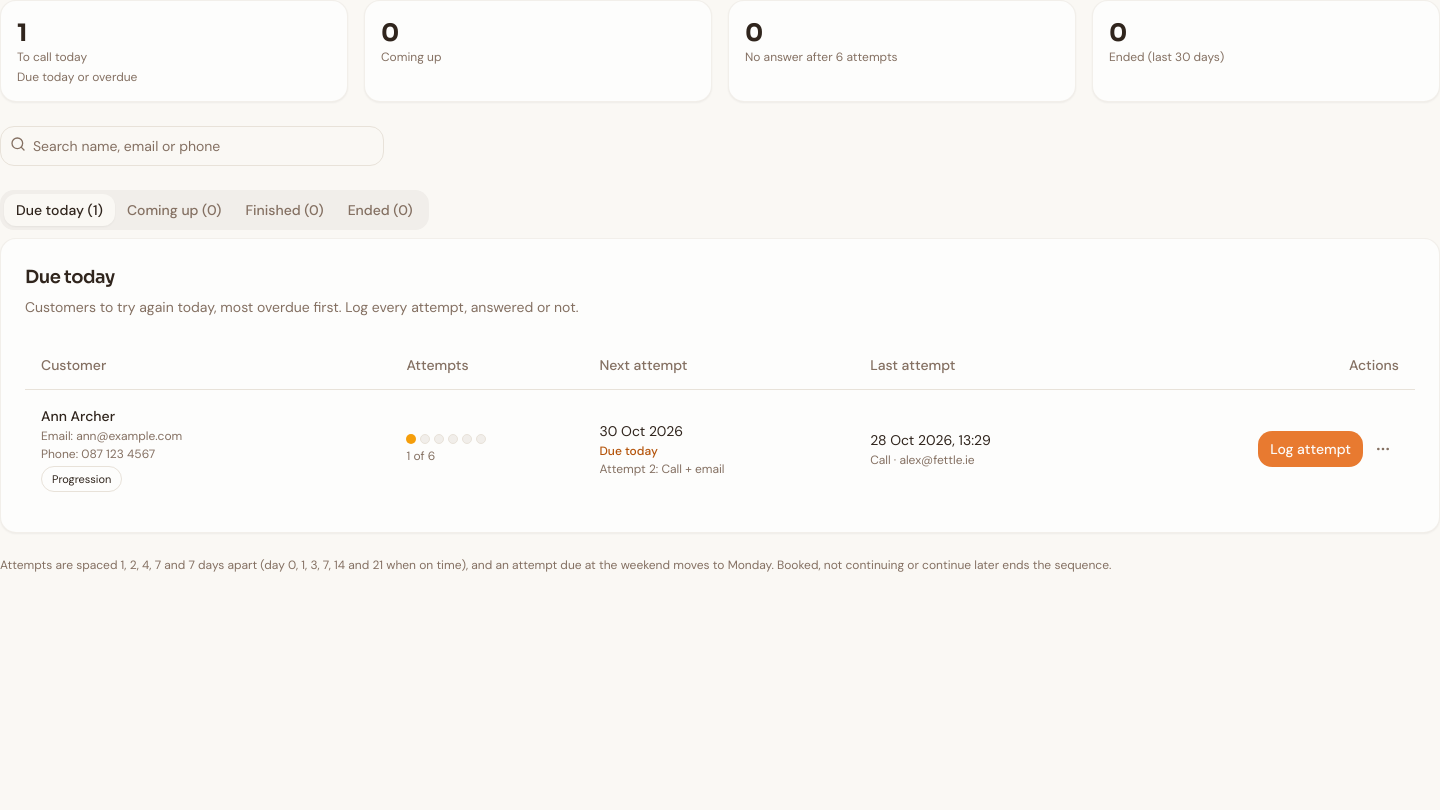
it: No answer page › logs a No answer with the method, a note and the draft email for attempt 2
Click the button "Log attempt" at (1311, 448), box [1258, 430, 1363, 466]
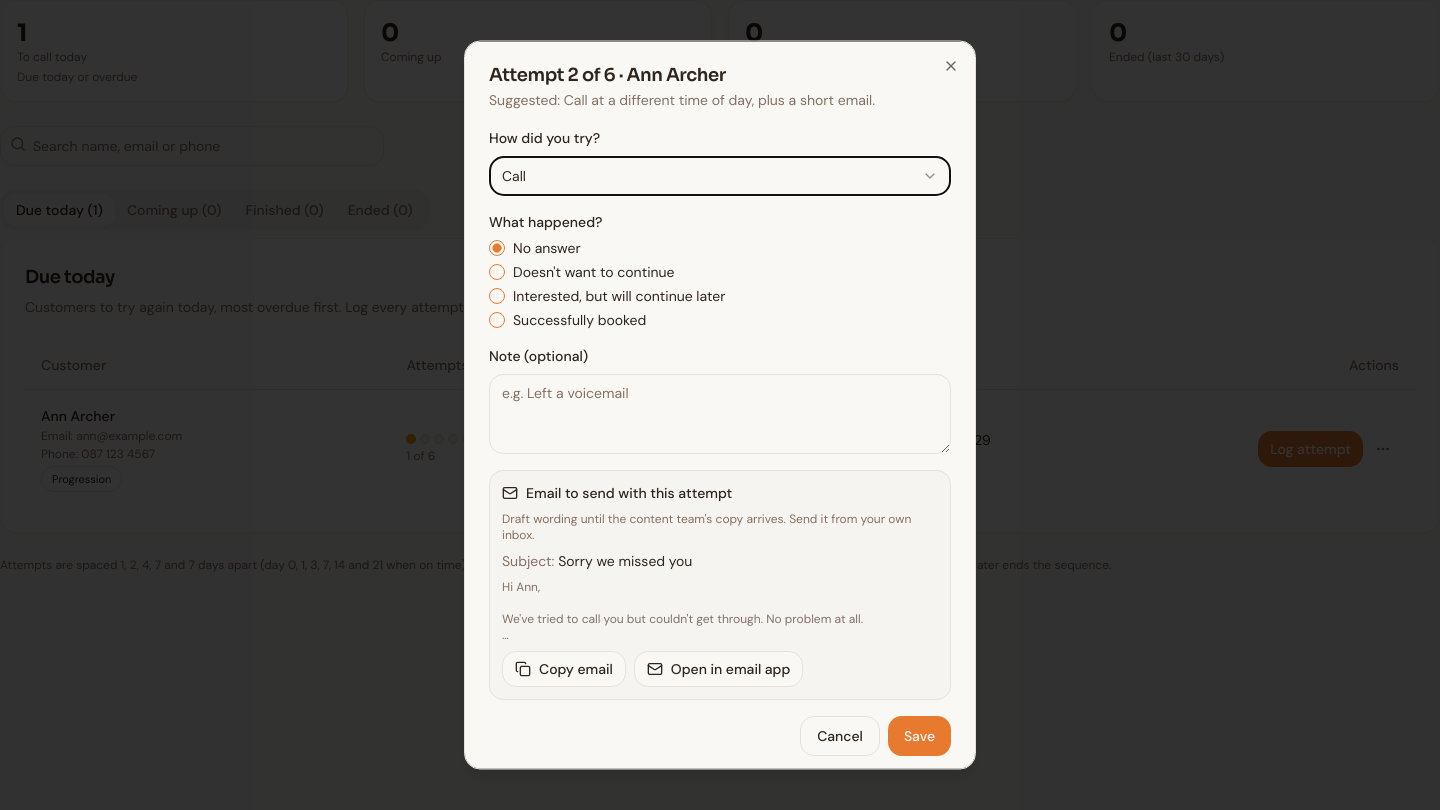
Expected: the heading "Attempt 2 of 6 · Ann Archer" is shown, [489, 64, 726, 86]
Expected: the 1st radio button named "No answer" is checked, [489, 240, 505, 256]
Type "Left a voicemail" into the text box labelled "Note (optional)" at (720, 414), box [489, 374, 951, 454]
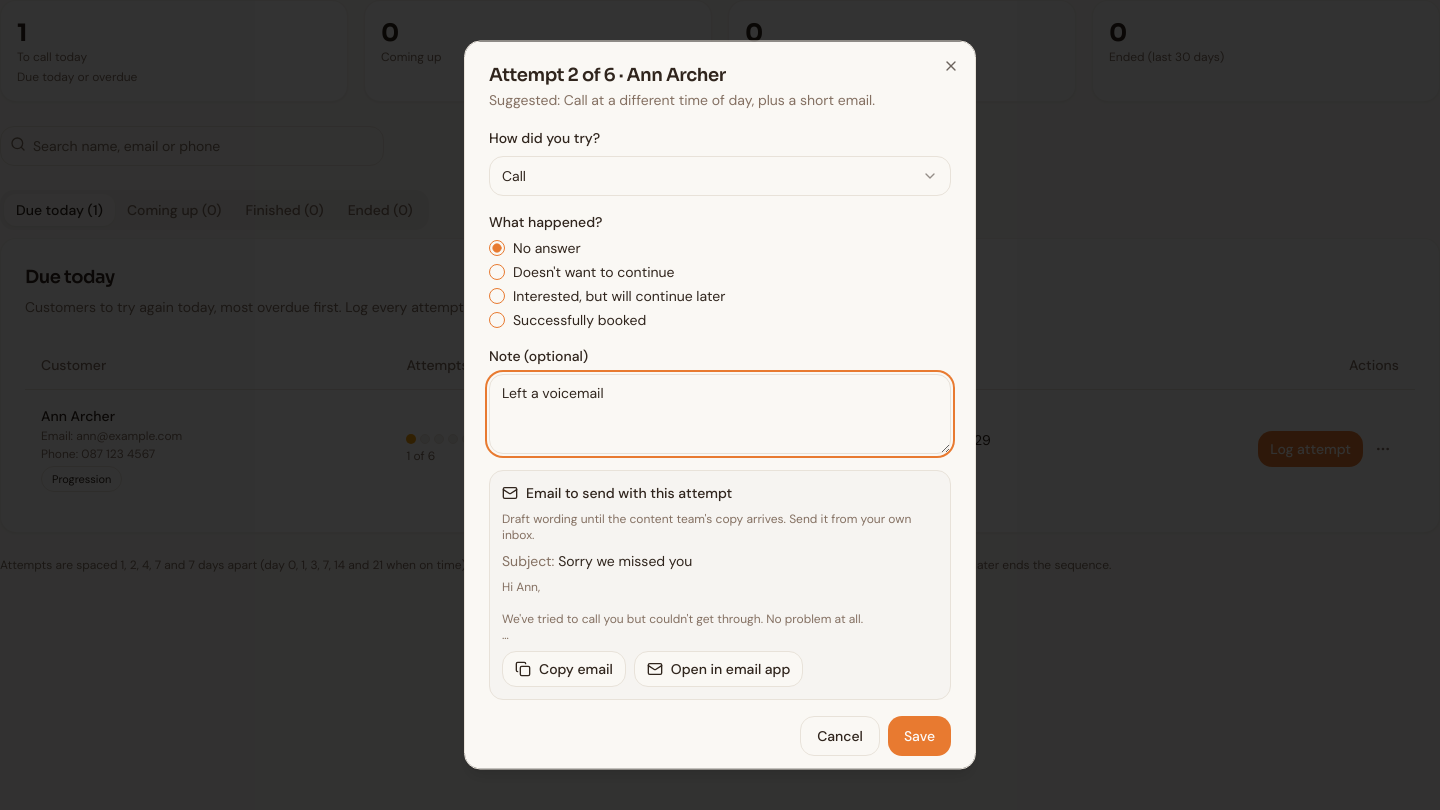
Click the button "Save" at (919, 736), box [888, 716, 951, 756]
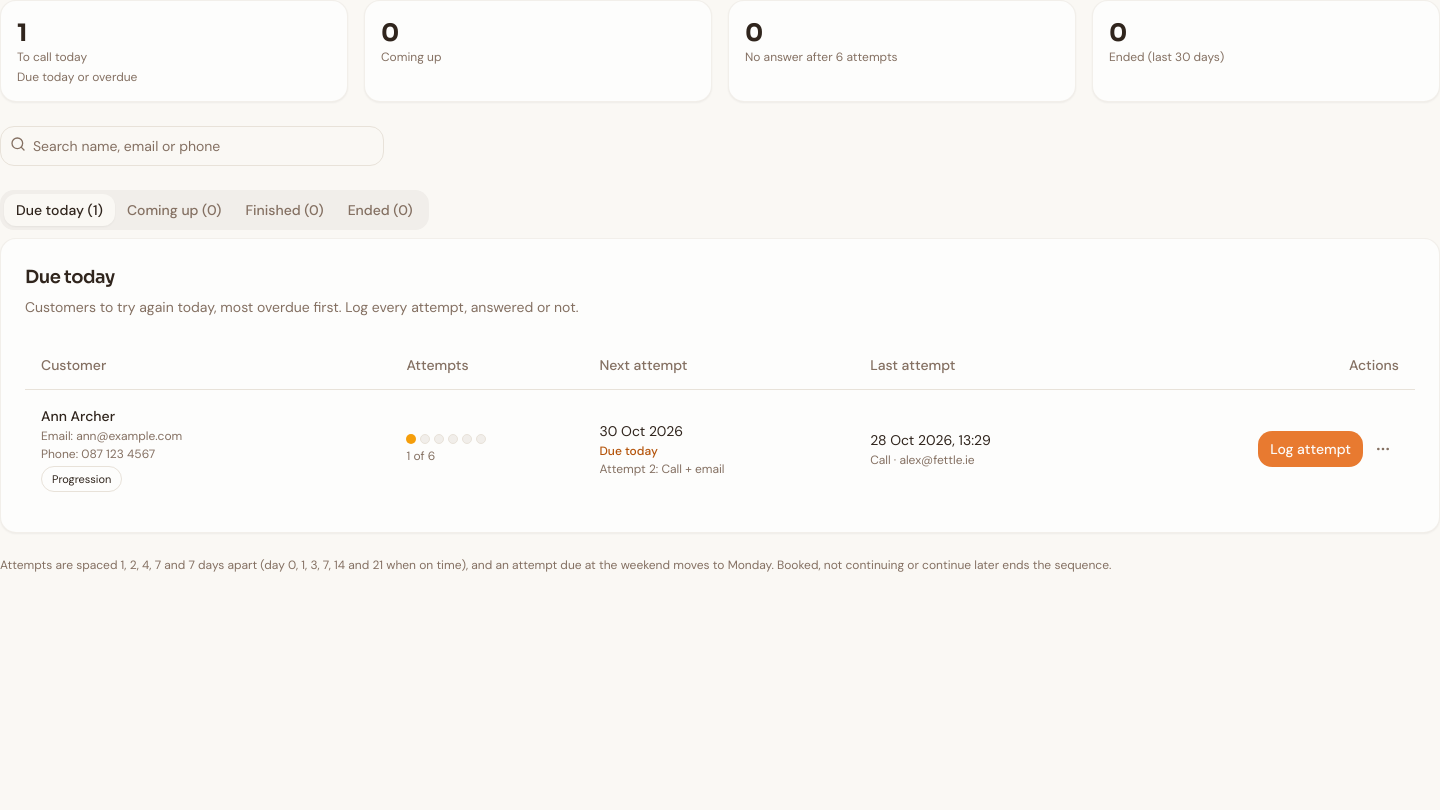
Expected: the dialog is gone
